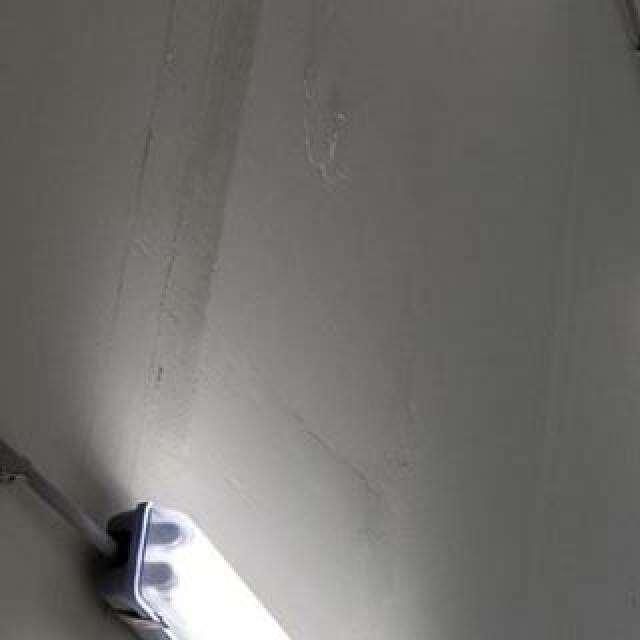fluorescent tube: (84, 488, 522, 640)
